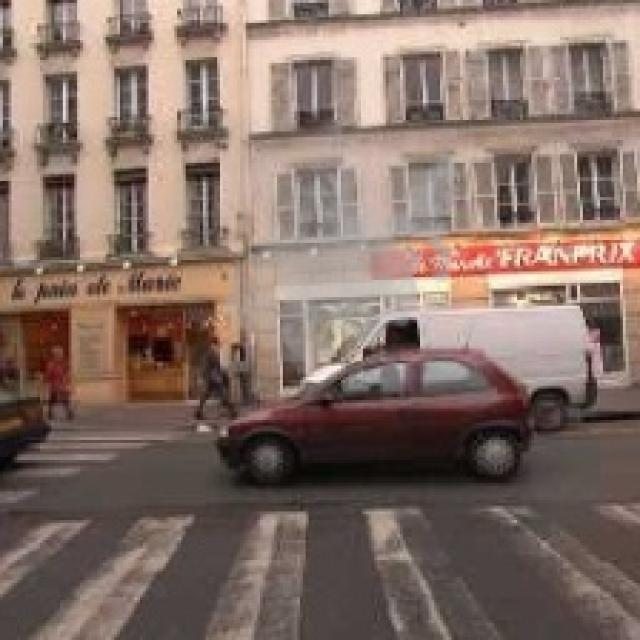Smoke: (214, 117, 469, 386)
